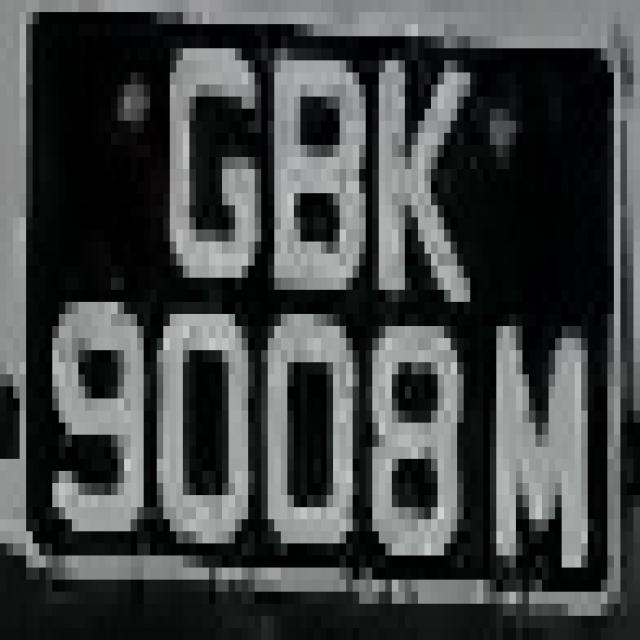0: (242, 266, 366, 580), (150, 302, 255, 592)
8: (359, 278, 477, 580)
9: (46, 266, 150, 543)
B: (248, 12, 372, 302)
G: (157, 36, 274, 314)
K: (366, 0, 483, 326)
M: (477, 314, 594, 580)
